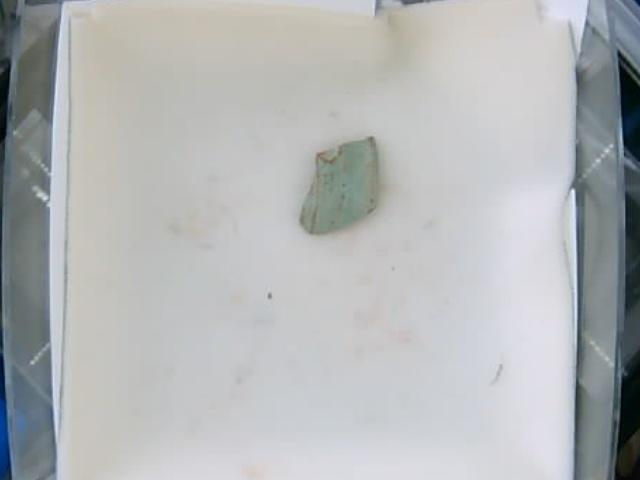China: (296, 136, 382, 239)
